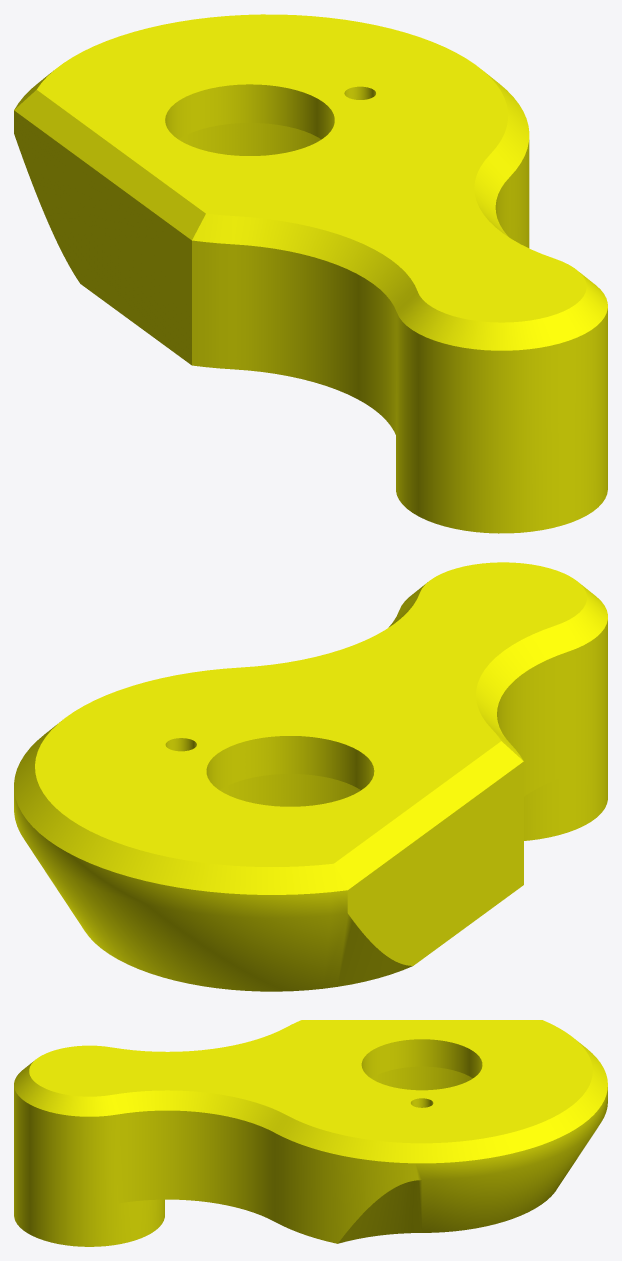
Rendered from nominal.obj.
3 renders of one model, top to bottom at view 1: azimuth 30°, elevation 25°; view 2: azimuth 150°, elevation 25°; view 3: azimuth 270°, elevation 25°, orthographic. The views are drawn at different scales.
Parts seen in each view (by area): view 1: nominal; view 2: nominal; view 3: nominal.
Boxes of the visible parts, x1,y1,x2,y2 form: nominal: (14,14,607,533); nominal: (14,562,607,991); nominal: (14,1020,607,1246).
Size of the model in its own units: 2.13 by 1.05 by 3.93.
